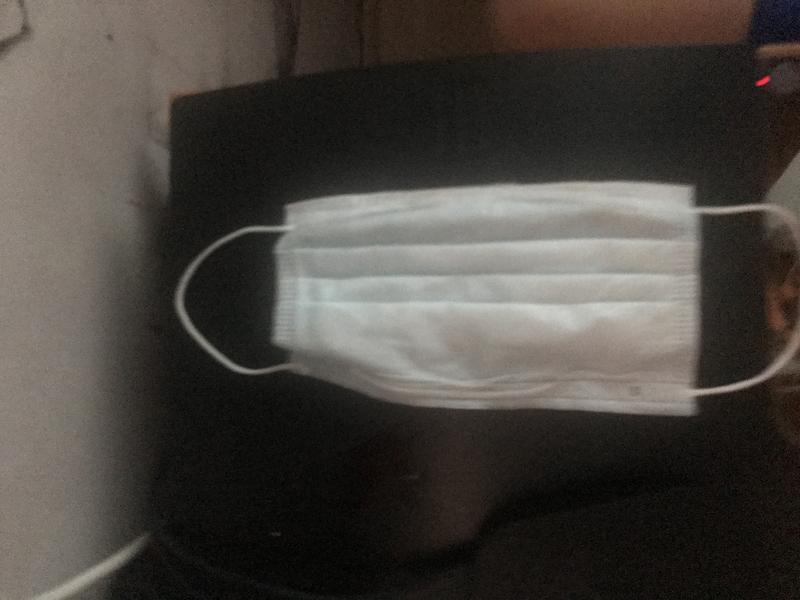medical_mask: (169, 193, 800, 416)
